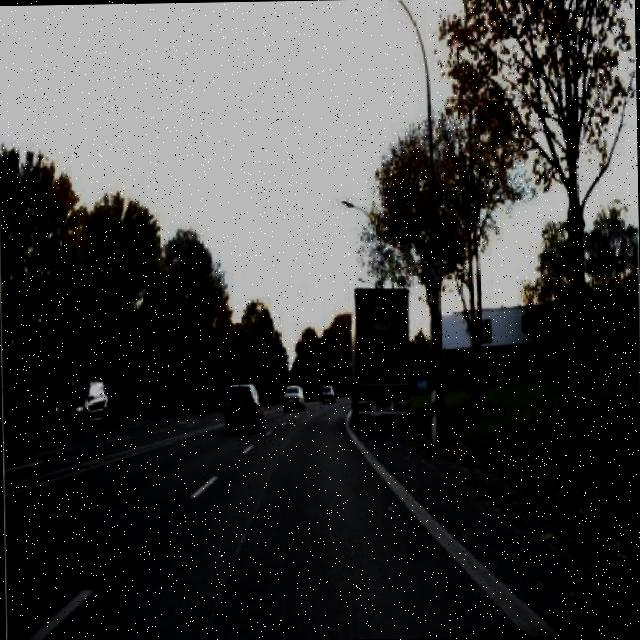Ograniczenie predkosci do 70: (427, 257, 446, 285)
